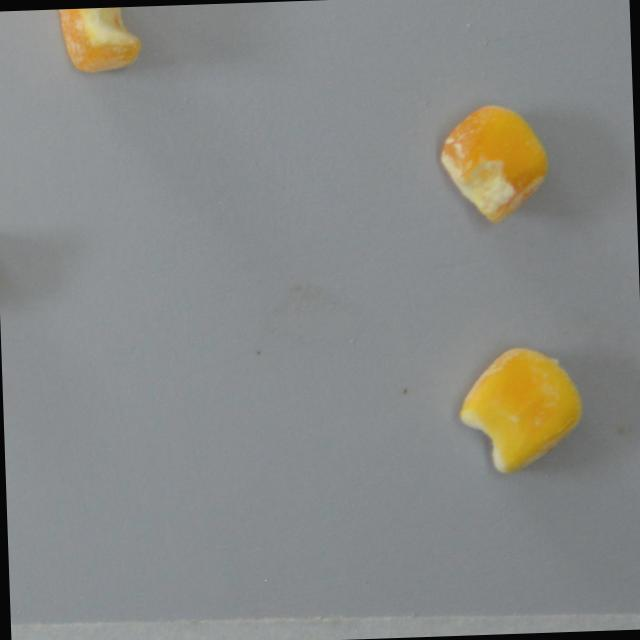dañado: (433, 97, 557, 229)
pelicula: (446, 336, 591, 483), (49, 6, 149, 82)
